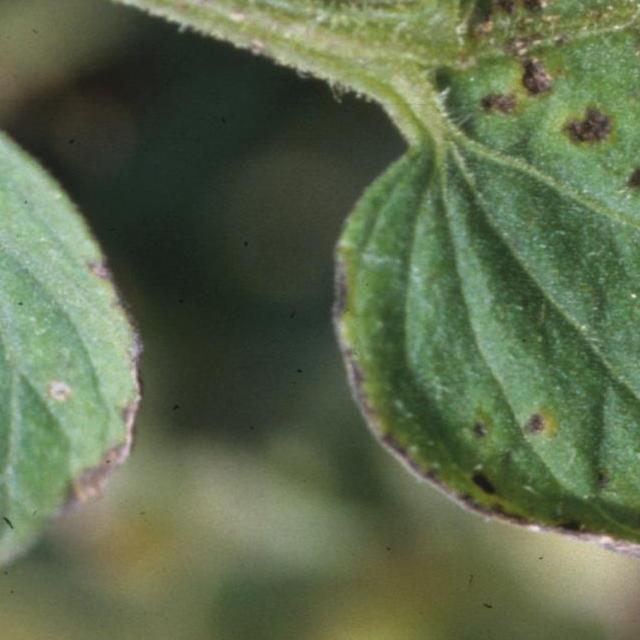Tomato leaf bacterial spot: (169, 0, 640, 594)
